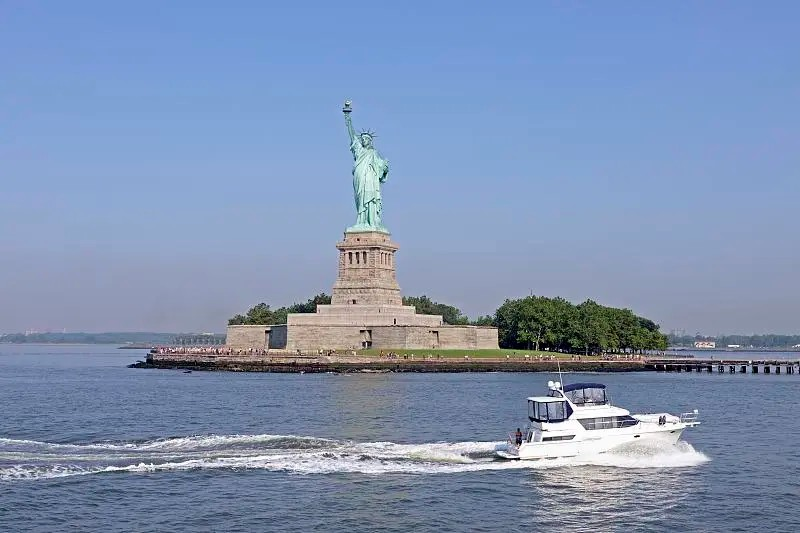SL: (331, 98, 402, 306)
